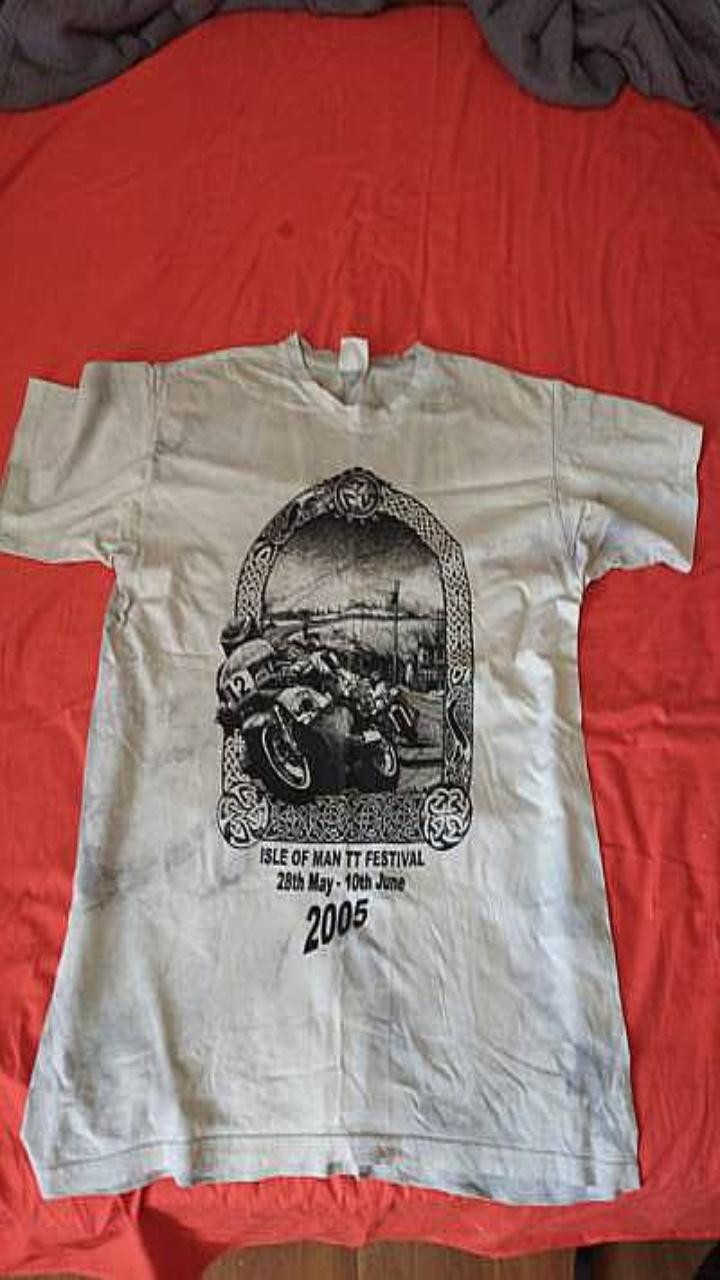T-Shirt: (0, 334, 700, 1201)
